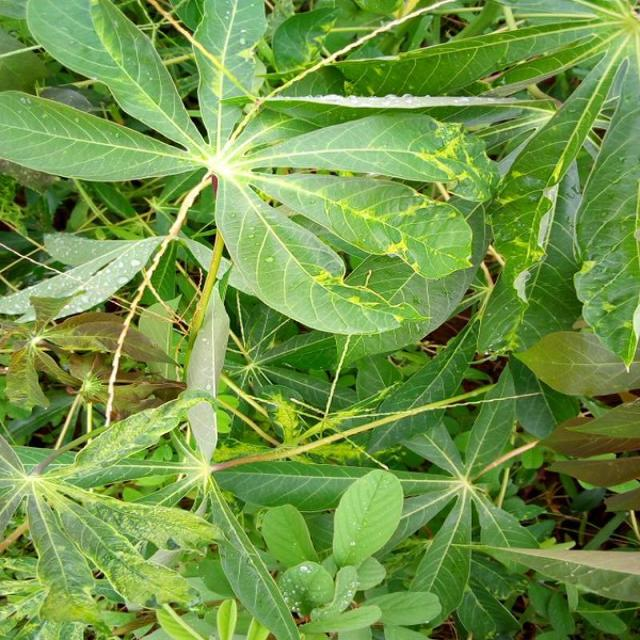Maleza: (266, 481, 456, 640)
Mosaico: (10, 426, 230, 612), (341, 86, 516, 305), (473, 198, 640, 385)
